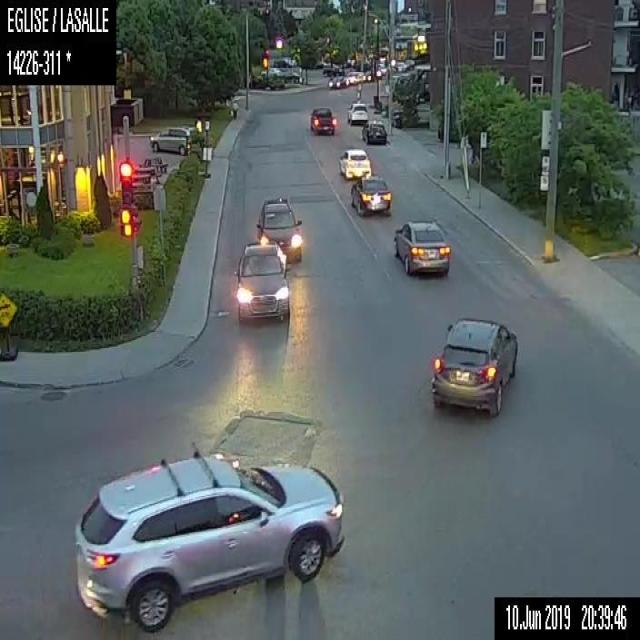pedestrian: (229, 98, 239, 119)
vehicle: (73, 456, 341, 629), (428, 316, 517, 413), (234, 239, 287, 320), (391, 216, 450, 276), (254, 194, 302, 264), (351, 174, 391, 213), (149, 122, 189, 153), (338, 147, 371, 179), (309, 101, 336, 136), (360, 117, 386, 144), (347, 101, 369, 125), (327, 74, 345, 90), (346, 70, 360, 84), (362, 69, 369, 82)
